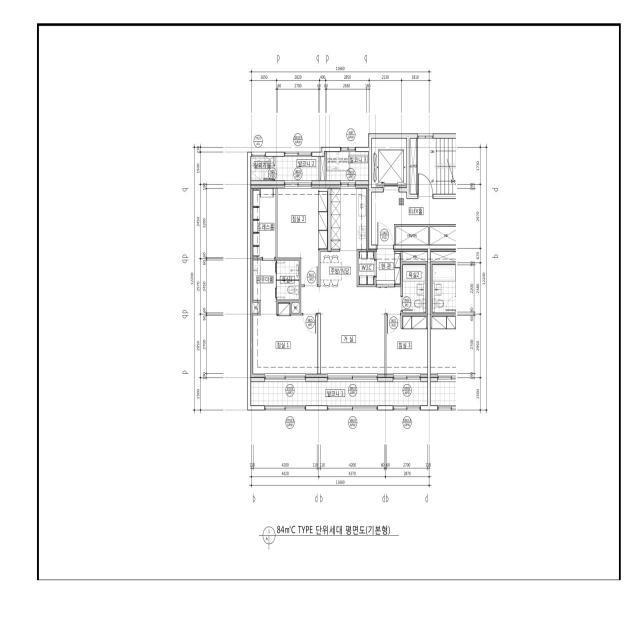space_balconi: (251, 382, 427, 405), (327, 152, 368, 181), (275, 157, 319, 180)
space_bedroom: (277, 185, 328, 285), (251, 303, 317, 377), (386, 315, 427, 377)
space_dressroom: (251, 185, 276, 258), (251, 260, 276, 315)
space_elevator: (372, 138, 407, 188)
space_elevator_hall: (372, 192, 456, 245)
space_front: (376, 249, 401, 285)
space_kitchen: (320, 185, 368, 287)
space_living_room: (301, 287, 401, 377)
space_other: (358, 250, 375, 284), (396, 227, 428, 245), (430, 227, 456, 245), (402, 249, 428, 262), (410, 138, 416, 194), (320, 152, 325, 181), (251, 303, 259, 313), (292, 303, 299, 313)
space_outdoor_room: (251, 157, 274, 180)
space_staircase: (418, 138, 456, 194)
space_toilet: (402, 264, 426, 313), (277, 260, 299, 280), (277, 281, 299, 300)
